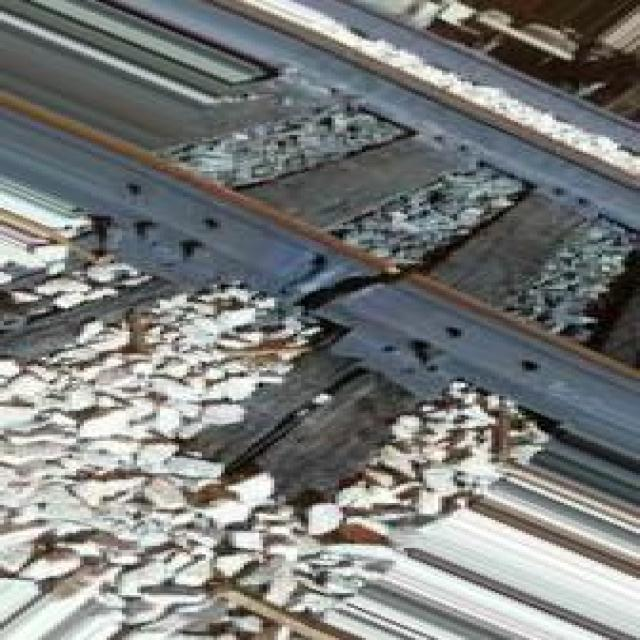crack: (250, 232, 445, 338)
